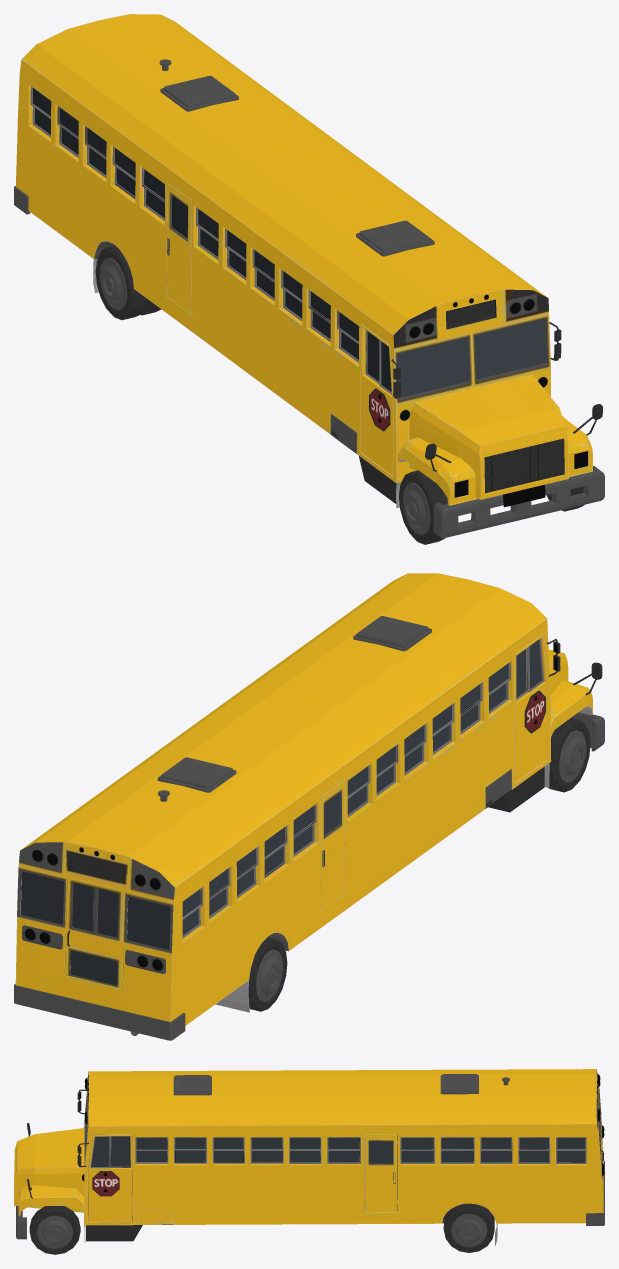
File: traffic_bus_school.glb
The picture shows the model from 3 angles, top to bottom: view 1: azimuth 30°, elevation 25°; view 2: azimuth 150°, elevation 25°; view 3: azimuth 270°, elevation 25°; orthographic projection. The views are drawn at different scales.
Visible parts, largest first — view 1: body; view 2: body; view 3: body.
Boxes of the visible parts, box(x1,y1,x2,y2) form: body: box(14, 14, 604, 544); body: box(14, 573, 604, 1040); body: box(14, 1069, 604, 1254).
Size of the model in its own units: 2.52 by 3.01 by 10.7.
Materials: 4 (3 with a texture image).
